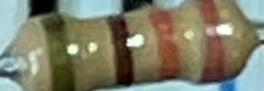Brown: (108, 14, 136, 82)
Orange: (154, 12, 180, 79)
Red: (203, 1, 225, 81)
Side-Gold: (41, 13, 77, 91)
